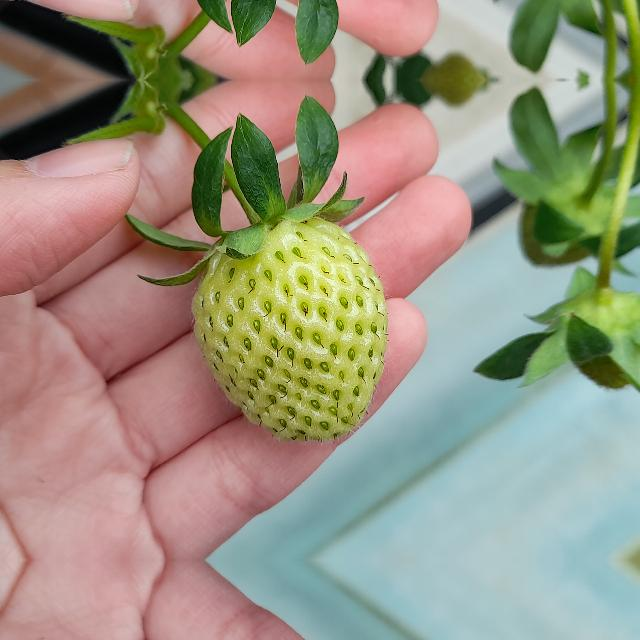Health_25: (192, 216, 388, 442)
